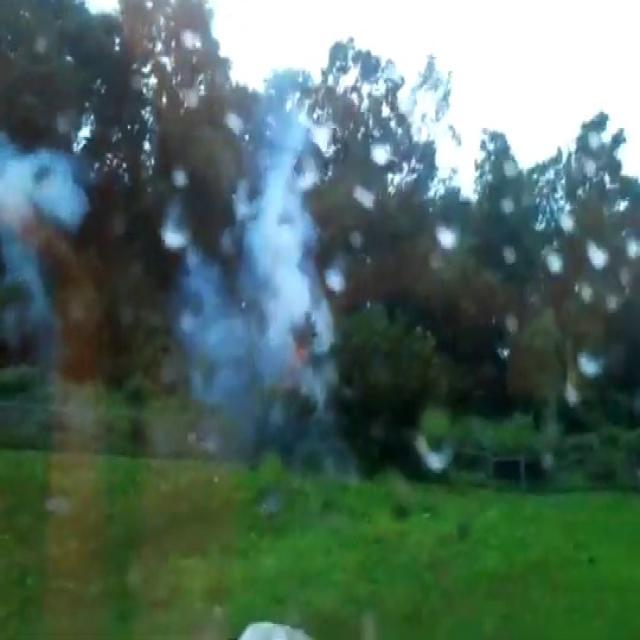Smoke: (182, 61, 340, 419), (0, 123, 85, 338)
